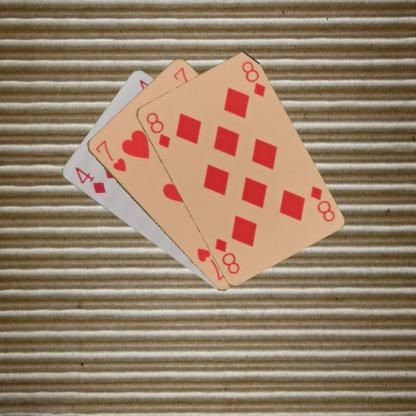4d: (72, 164, 107, 195)
7h: (92, 138, 127, 172)
8d: (142, 109, 172, 150), (307, 183, 336, 223)
